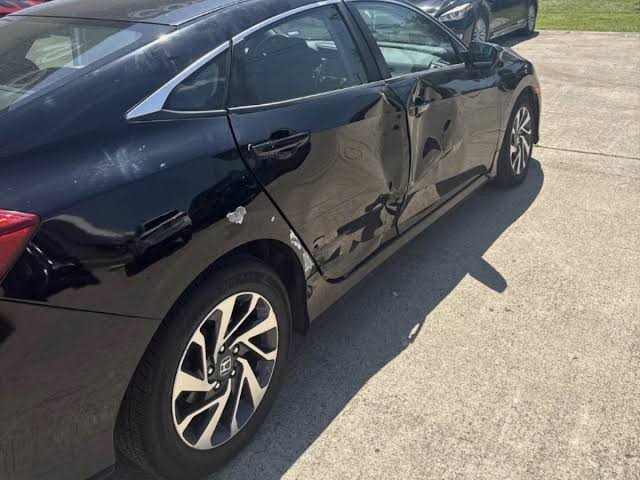doorouter-dent: (245, 86, 404, 270)
